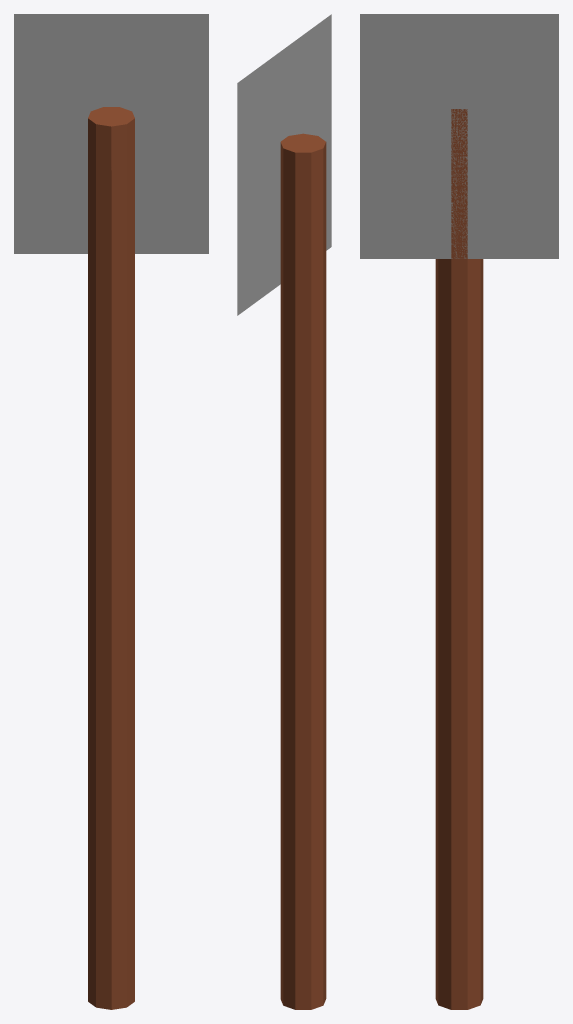
File: signage.fbx
3 renders of one model, left to right at view 1: azimuth 90°, elevation 25°; view 2: azimuth 150°, elevation 25°; view 3: azimuth 270°, elevation 25°, orthographic. The views are drawn at different scales.
Parts seen in each view (by area): view 1: Cylinder.007; view 2: Cylinder.007; view 3: Cylinder.007.
Boxes of the visible parts, x1,y1,x2,y2 form: Cylinder.007: (14, 14, 208, 1009); Cylinder.007: (237, 14, 331, 1009); Cylinder.007: (360, 14, 558, 1009).
Bounding box in the file's own units: 13.75 × 320 × 57.85.
